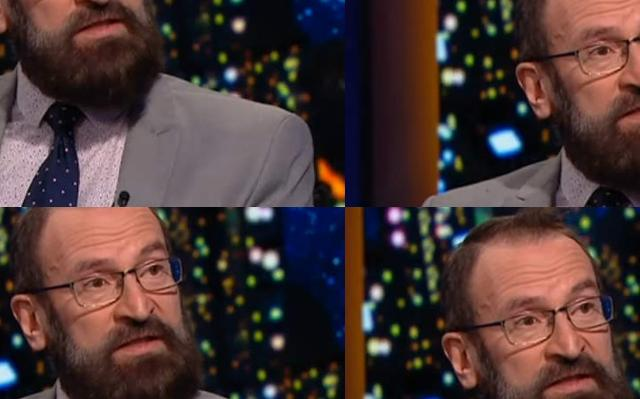crows_feet: (140, 324, 172, 356), (616, 179, 640, 207), (335, 323, 345, 361)
forehead: (162, 249, 212, 290), (466, 68, 522, 96), (292, 240, 342, 270), (285, 260, 335, 288), (217, 244, 251, 284), (455, 98, 507, 118), (564, 126, 618, 142), (535, 91, 571, 113), (507, 265, 535, 289), (539, 262, 565, 284), (566, 248, 582, 276)
frown_line: (517, 134, 543, 168), (488, 129, 516, 159), (540, 143, 562, 175), (262, 282, 278, 316)
gummy_smile: (181, 386, 219, 399)
